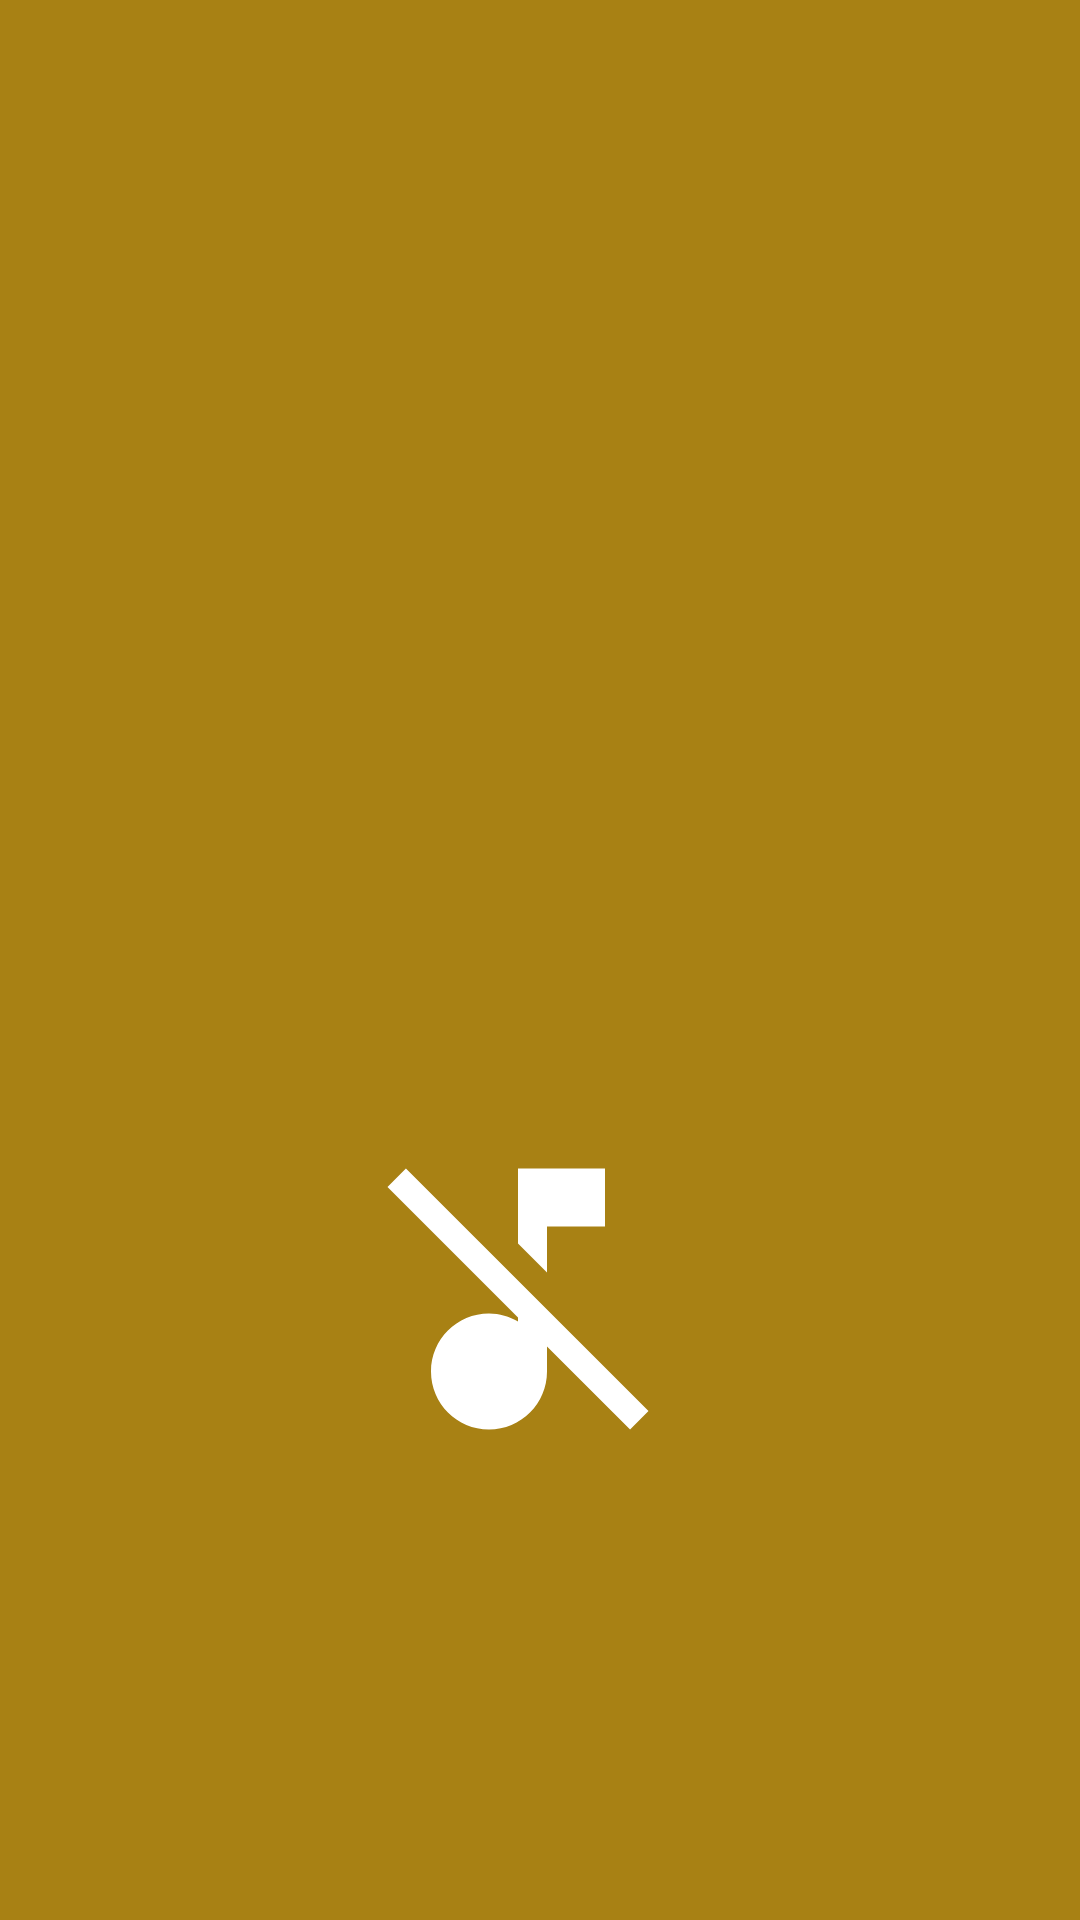

Where to tap for icons on this 1080px x 1920px app screen, as [x,y]:
music off: [518,1299]
